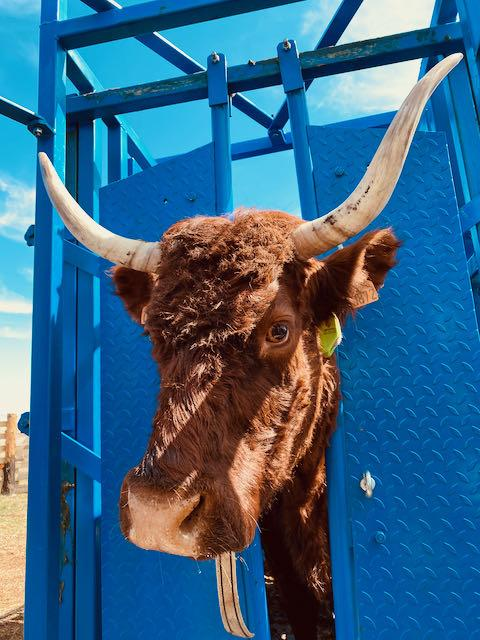muzzles: (108, 479, 238, 565)
